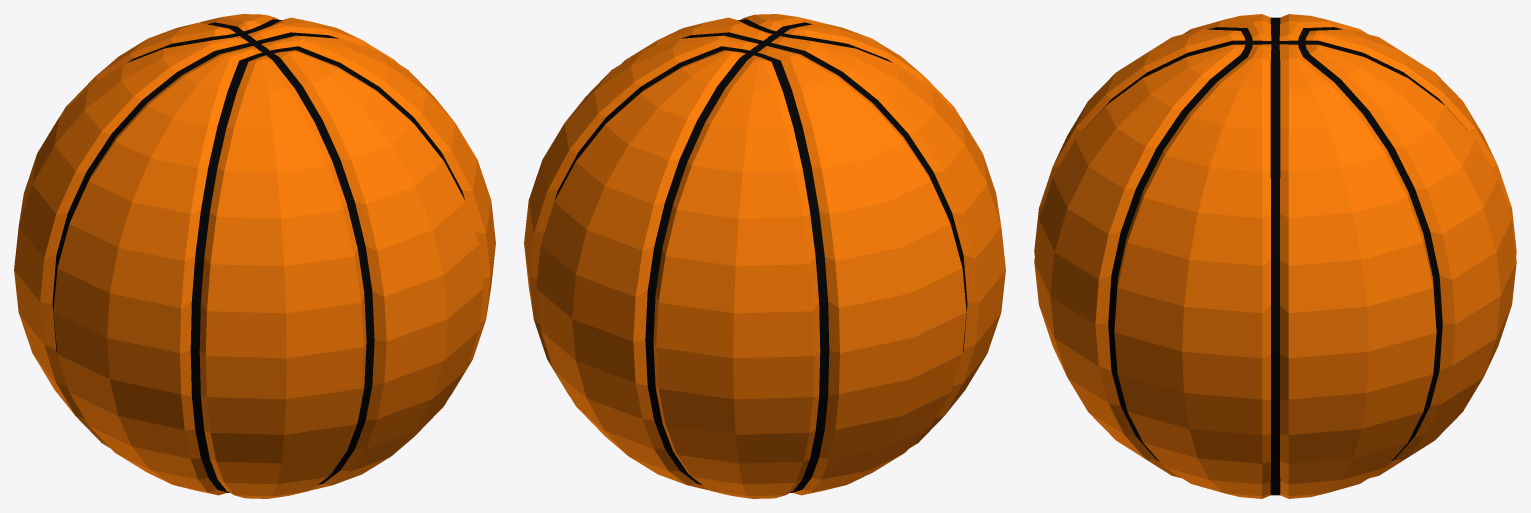
The model's file is Ball.fbx.
3 views of the same model, side by side, from view 1: azimuth 30°, elevation 25°; view 2: azimuth 150°, elevation 25°; view 3: azimuth 270°, elevation 25° (orthographic).
Parts seen in each view (by area): view 1: Ball; view 2: Ball; view 3: Ball.
Part boxes in pixels (x1,y1,x2,y2): Ball: (14,14,495,498); Ball: (524,14,1005,498); Ball: (1034,14,1516,498).
Bounding box in the file's own units: 198 × 198 × 196.
